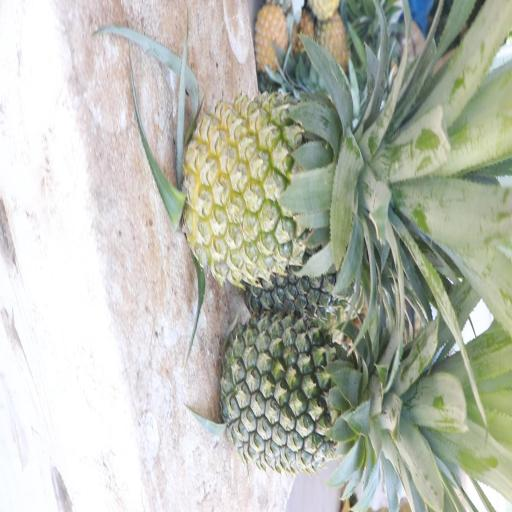Pineapple - v8 v1: (182, 98, 366, 283), (250, 0, 290, 80)
